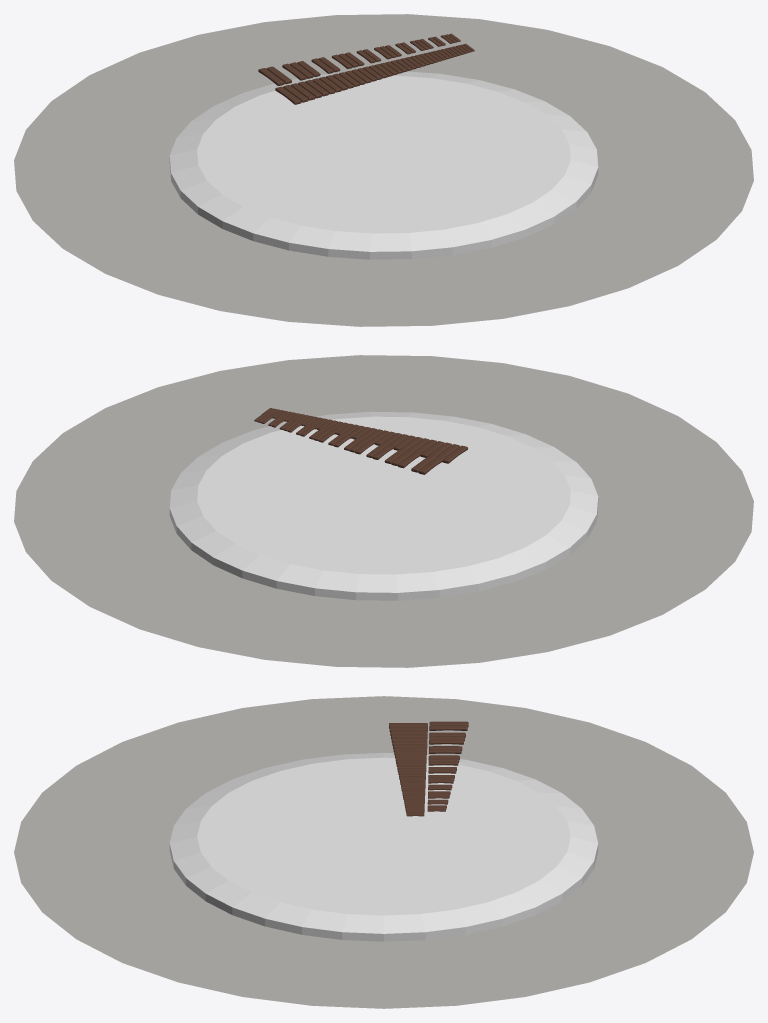
Rendered from marimba_mods-applyed.glb.
3 views of the same model, one above another, from view 1: azimuth 30°, elevation 25°; view 2: azimuth 150°, elevation 25°; view 3: azimuth 270°, elevation 25° (orthographic).
Visible parts, largest first — view 1: ground, stage; view 2: ground, stage; view 3: ground, stage.
Part boxes in pixels (x1=…): ground: x1=14, y1=14, x2=753, y2=326; stage: x1=169, y1=71, x2=598, y2=259; ground: x1=14, y1=355, x2=753, y2=667; stage: x1=169, y1=411, x2=598, y2=600; ground: x1=14, y1=696, x2=753, y2=1008; stage: x1=169, y1=753, x2=598, y2=941.
Bounding box in the file's own units: 8 × 1.08 × 8.
